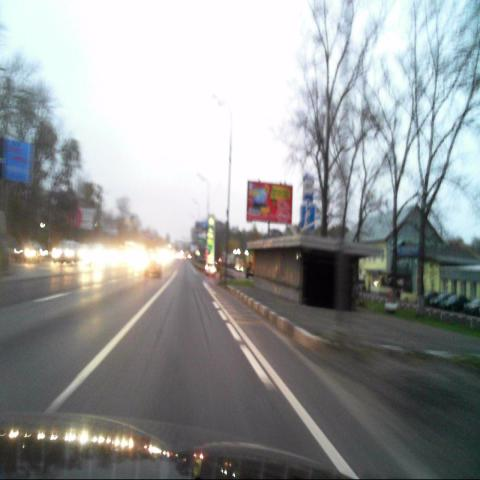6_6: (301, 205, 315, 231)
